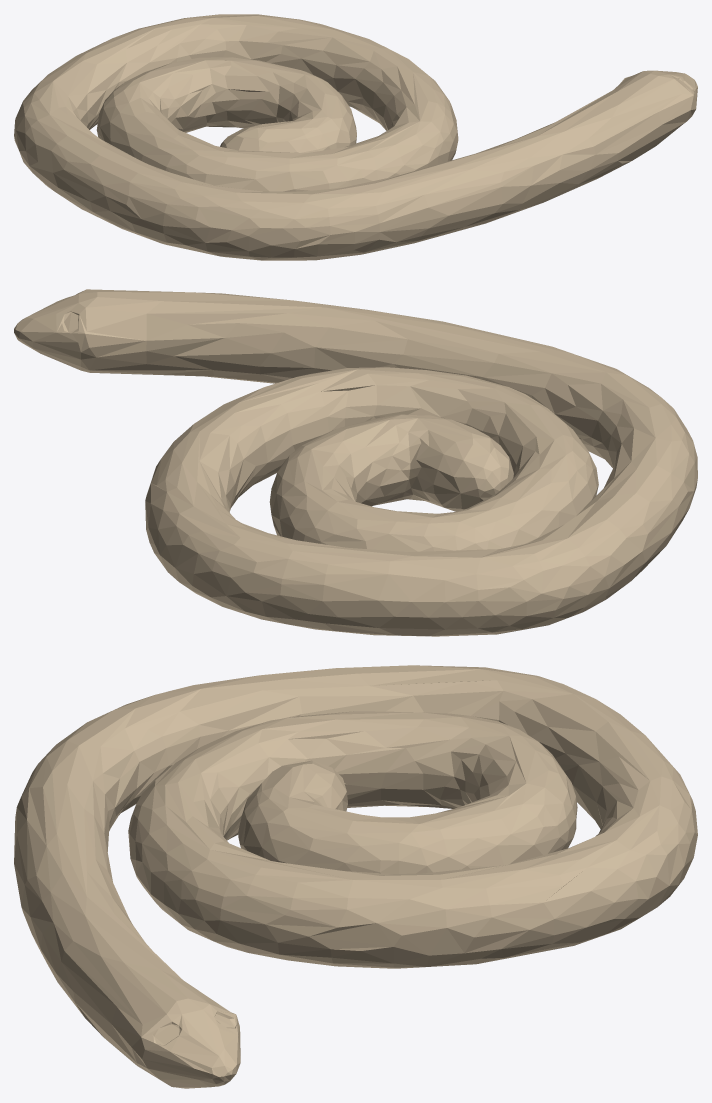
Rendered from tengshe.glb.
3 renders of one model, top to bottom at view 1: azimuth 30°, elevation 25°; view 2: azimuth 150°, elevation 25°; view 3: azimuth 270°, elevation 25°, orthographic. The views are drawn at different scales.
Parts seen in each view (by area): view 1: Line003; view 2: Line003; view 3: Line003.
Part boxes in pixels (bbox=[...]): Line003: bbox=[14, 14, 697, 260]; Line003: bbox=[14, 289, 697, 636]; Line003: bbox=[14, 665, 697, 1088].
Bounding box in the file's own units: 172438 × 17977 × 129433.
